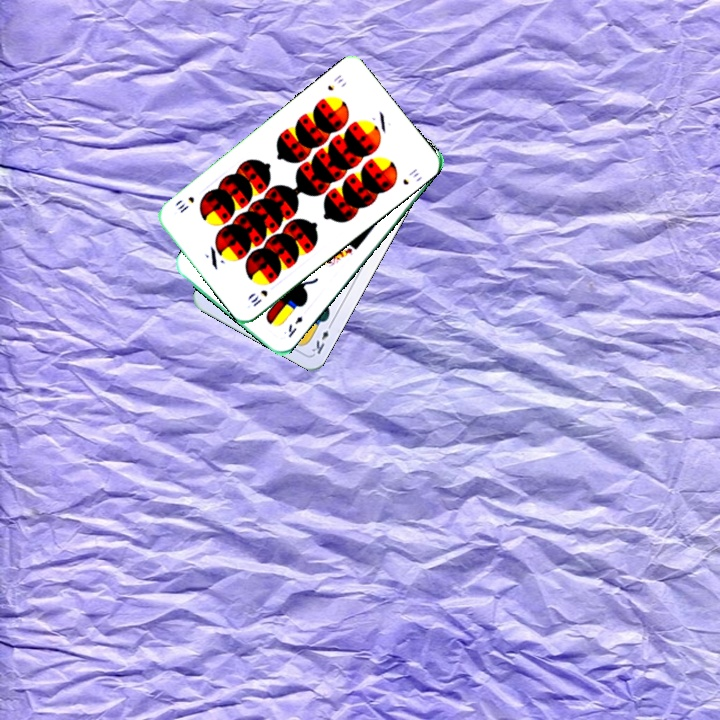EK: (307, 318, 335, 357), (284, 312, 305, 340)
S10: (247, 286, 270, 309), (323, 70, 346, 93)
